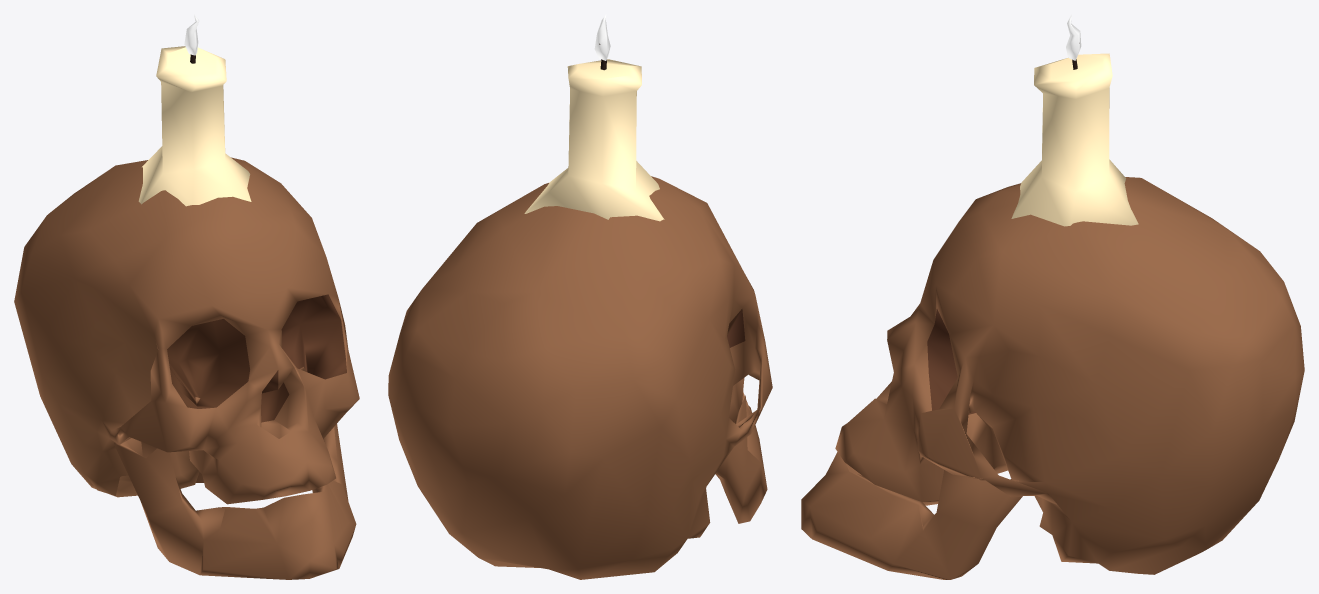
The model's file is CandleSkullShapeB.011.glb.
3 renders of one model, left to right at view 1: azimuth 30°, elevation 25°; view 2: azimuth 150°, elevation 25°; view 3: azimuth 270°, elevation 25°, orthographic. The views are drawn at different scales.
Parts seen in each view (by area): view 1: CandleSkullShapeB.011; view 2: CandleSkullShapeB.011; view 3: CandleSkullShapeB.011.
Part boxes in pixels (left/top/right/bottom): CandleSkullShapeB.011: left=14, top=14, right=359, bottom=579; CandleSkullShapeB.011: left=388, top=14, right=772, bottom=579; CandleSkullShapeB.011: left=801, top=14, right=1304, bottom=579.
Bounding box in the file's own units: 0.2005 × 0.3649 × 0.3132.
2 materials, 2 textured.
